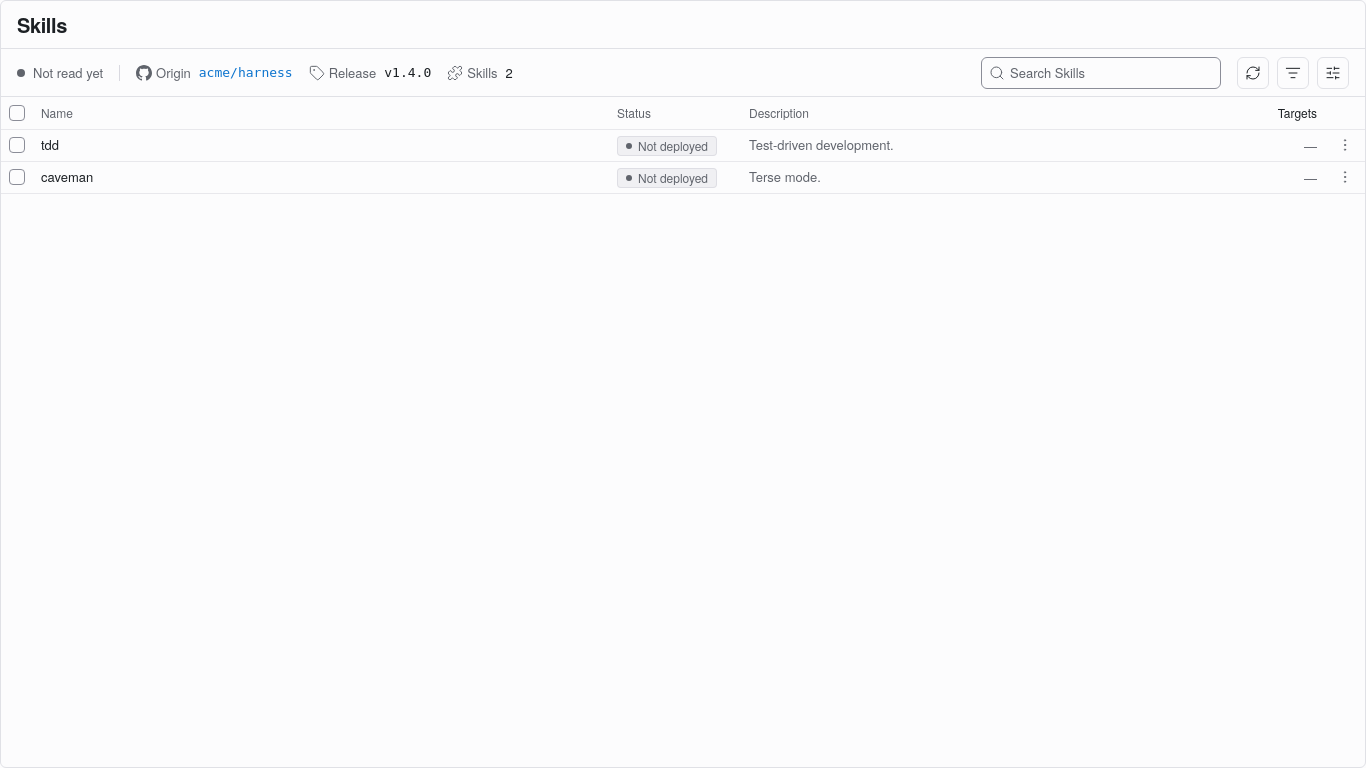
Scenario: SkillsView — the table › reveals a shortened skill name through the tooltip, said once
Hover over the text "caveman" at coordinates (67, 176), box top-left (41, 167), bottom-right (93, 186)
Wait 400 ms
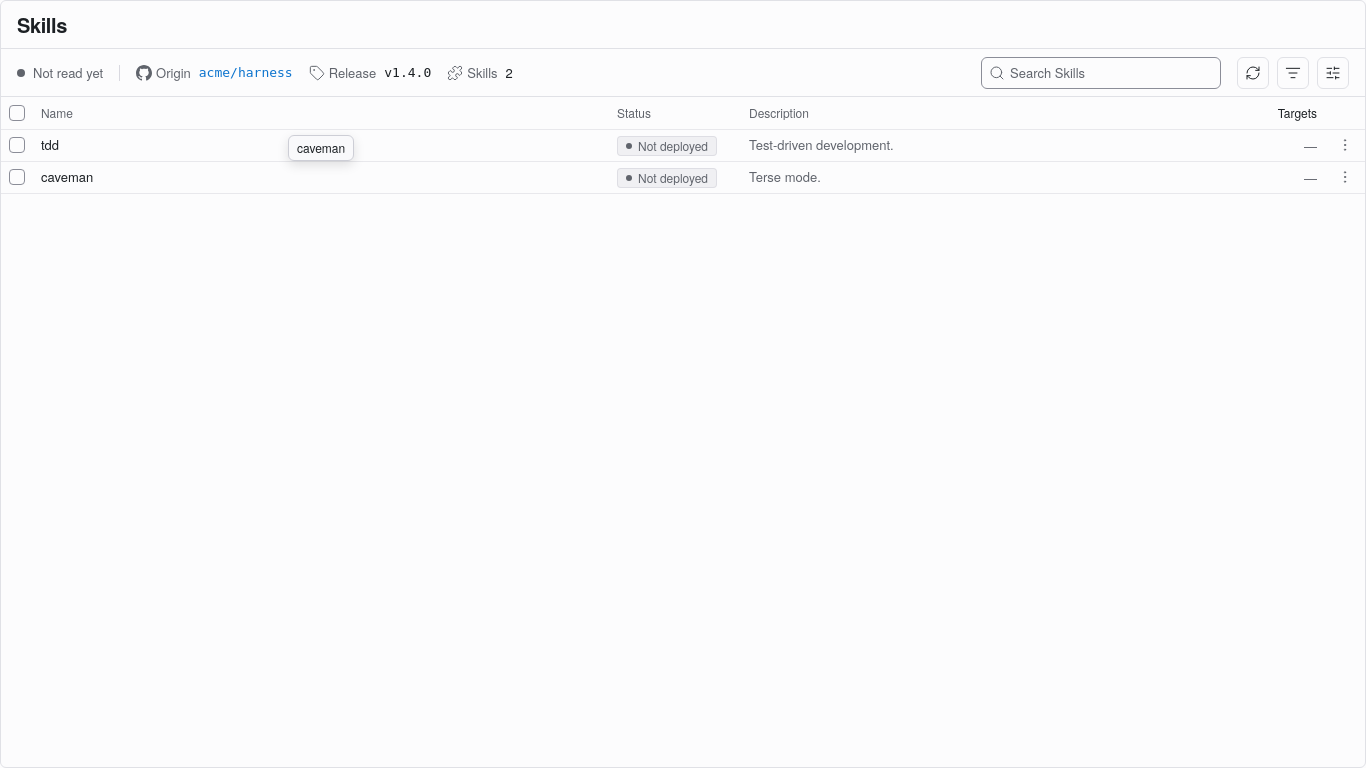
Expected: the cell "caveman" is shown, top-left (33, 161), bottom-right (609, 193)
Expected: the tooltip reads "caveman", top-left (297, 139), bottom-right (345, 156)
